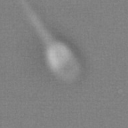normal: (14, 1, 52, 41)
